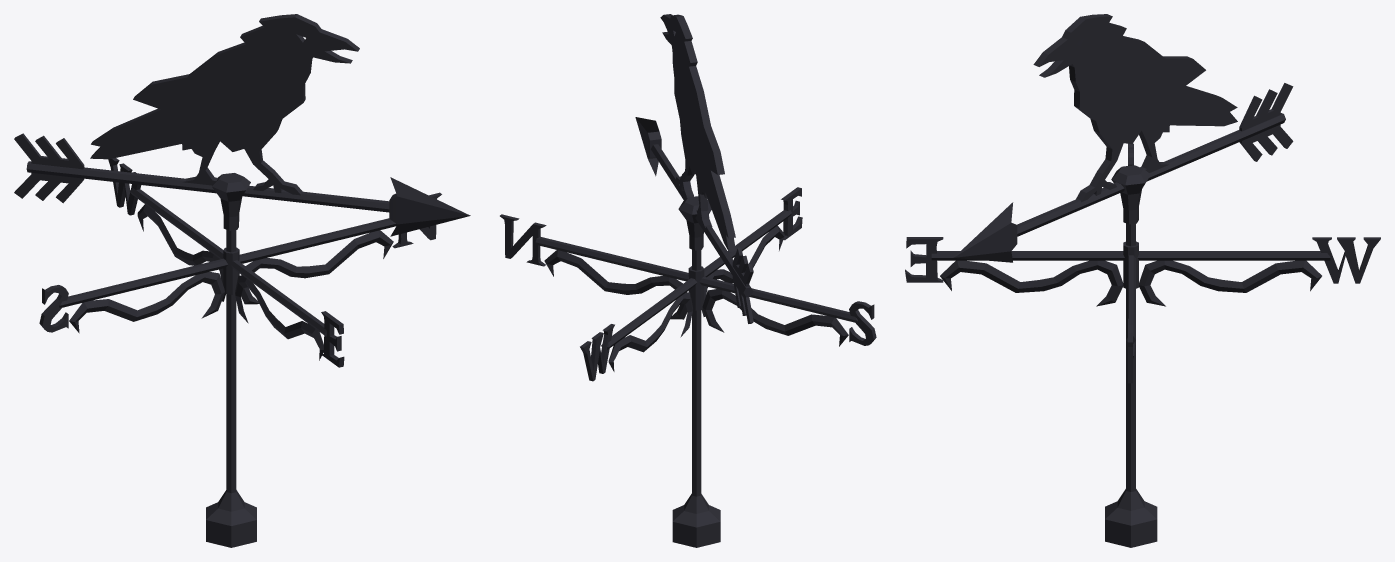
The model's file is movParts.obj.
3 views of the same model, side by side, from view 1: azimuth 30°, elevation 25°; view 2: azimuth 150°, elevation 25°; view 3: azimuth 270°, elevation 25° (orthographic). The views are drawn at different scales.
Parts seen in each view (by area): view 1: SM_Prop_Weather_Vane_01_Top_01_PolygonHorrorMansion_Mat_01_A_0, SM_Prop_Weather_Vane_01_PolygonHorrorMansion_Mat_01_A_0; view 2: SM_Prop_Weather_Vane_01_PolygonHorrorMansion_Mat_01_A_0, SM_Prop_Weather_Vane_01_Top_01_PolygonHorrorMansion_Mat_01_A_0; view 3: SM_Prop_Weather_Vane_01_Top_01_PolygonHorrorMansion_Mat_01_A_0, SM_Prop_Weather_Vane_01_PolygonHorrorMansion_Mat_01_A_0.
Boxes of the visible parts, x1,y1,x2,y2 form: SM_Prop_Weather_Vane_01_Top_01_PolygonHorrorMansion_Mat_01_A_0: (14,14,470,236); SM_Prop_Weather_Vane_01_PolygonHorrorMansion_Mat_01_A_0: (39,158,441,547); SM_Prop_Weather_Vane_01_PolygonHorrorMansion_Mat_01_A_0: (500,187,876,547); SM_Prop_Weather_Vane_01_Top_01_PolygonHorrorMansion_Mat_01_A_0: (635,14,753,323); SM_Prop_Weather_Vane_01_Top_01_PolygonHorrorMansion_Mat_01_A_0: (953,14,1293,262); SM_Prop_Weather_Vane_01_PolygonHorrorMansion_Mat_01_A_0: (905,143,1380,547).
Bounding box in the file's own units: 2.11 × 2.66 × 2.13.
Materials: 1 (1 with a texture image).
